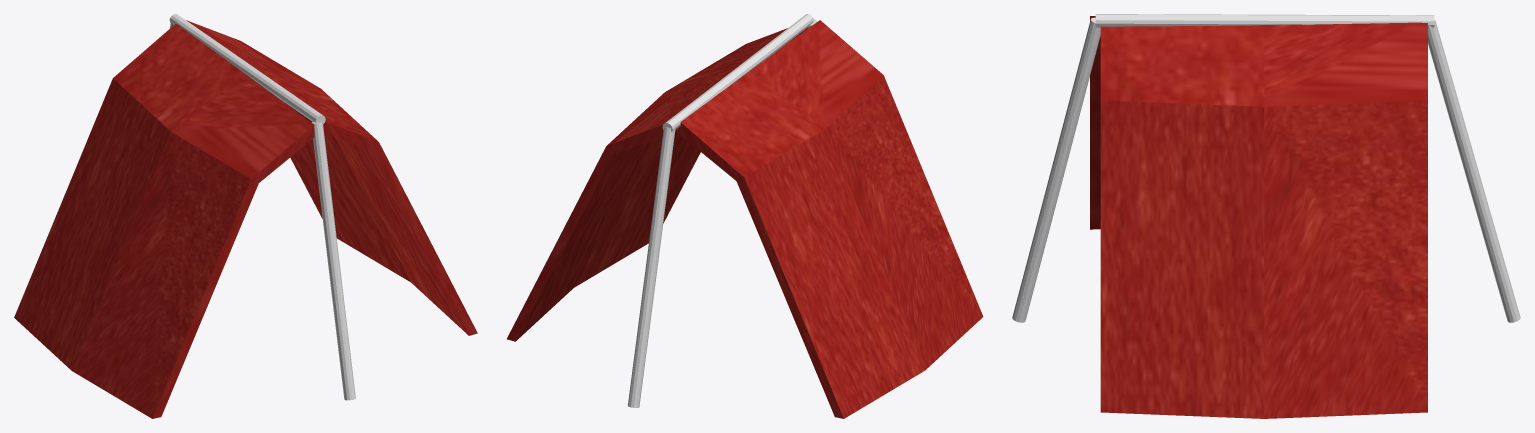
Rendered from cadir.fbx.
3 views of the same model, side by side, from view 1: azimuth 30°, elevation 25°; view 2: azimuth 150°, elevation 25°; view 3: azimuth 270°, elevation 25° (orthographic). The views are drawn at different scales.
Visible parts, largest first — view 1: cadir; view 2: cadir; view 3: cadir.
Boxes of the visible parts, box(x1,y1,x2,y2) form: cadir: box(14, 14, 477, 418); cadir: box(507, 14, 983, 418); cadir: box(1012, 14, 1520, 418).
Size of the model in its own units: 819 by 579 by 865.
